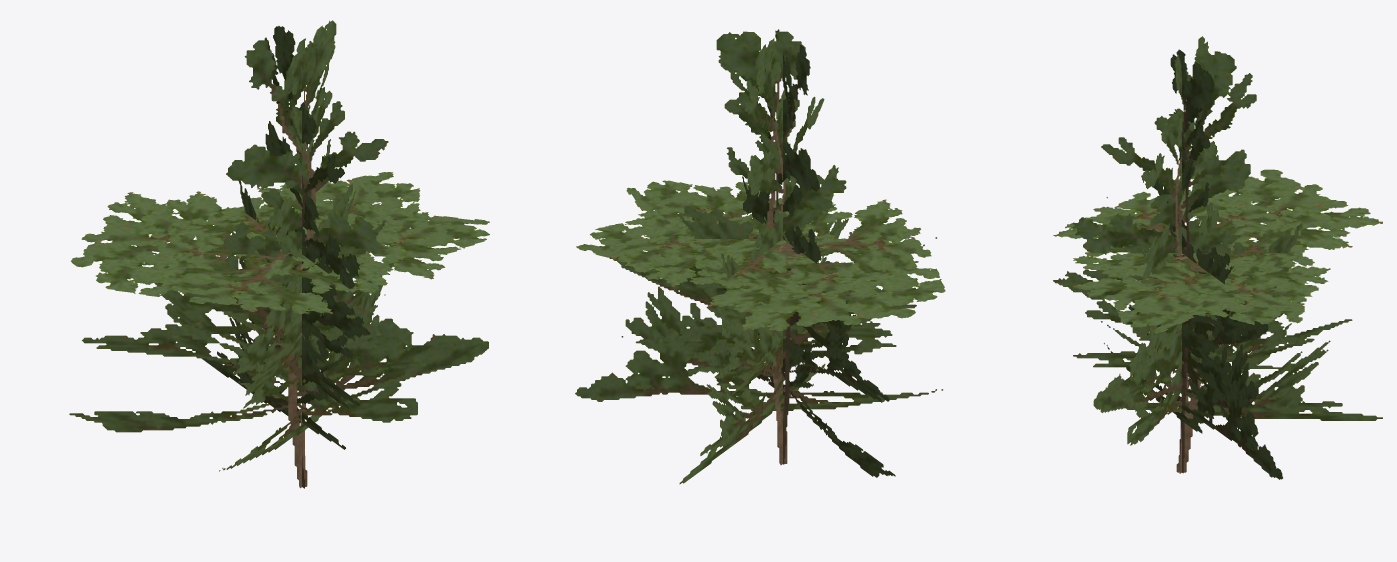
3 renders of one model, left to right at view 1: azimuth 30°, elevation 25°; view 2: azimuth 150°, elevation 25°; view 3: azimuth 270°, elevation 25°, orthographic. The views are drawn at different scales.
Parts seen in each view (by area): view 1: Pine_sapling_1_Billboard_LOD3_Pine_sapling_1_Billboard_Mat_0; view 2: Pine_sapling_1_Billboard_LOD3_Pine_sapling_1_Billboard_Mat_0; view 3: Pine_sapling_1_Billboard_LOD3_Pine_sapling_1_Billboard_Mat_0.
Part boxes in pixels (<box>): Pine_sapling_1_Billboard_LOD3_Pine_sapling_1_Billboard_Mat_0: <box>69,20,489,488</box>; Pine_sapling_1_Billboard_LOD3_Pine_sapling_1_Billboard_Mat_0: <box>575,29,945,484</box>; Pine_sapling_1_Billboard_LOD3_Pine_sapling_1_Billboard_Mat_0: <box>1053,36,1382,479</box>.
Size of the model in its own units: 1.23 by 1.48 by 1.05.
